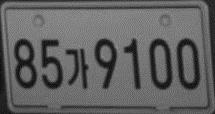0: (148, 37, 173, 90), (176, 37, 200, 90)
1: (123, 36, 142, 90)
5: (40, 38, 63, 89)
8: (12, 38, 37, 89)
9: (93, 37, 117, 89)
가: (64, 47, 90, 89)
